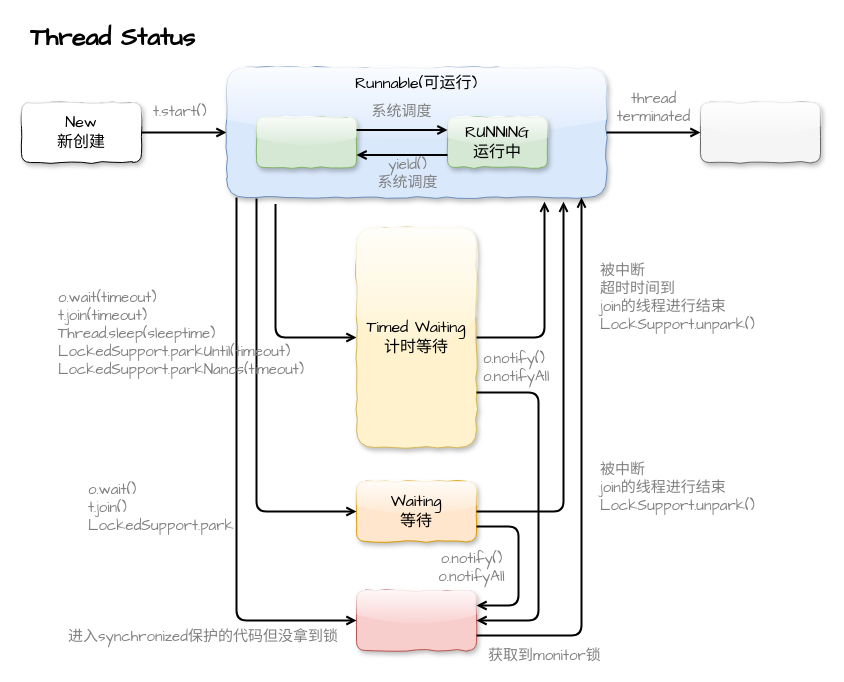
Image size: 844x682. Some labels were removed from this diagram. The centre of each missing label's shape, as x and y in pixels:
Blocked 被阻塞: the point at 417,622
READY 就绪: the point at 307,143
Terminated 已终止: the point at 761,134
